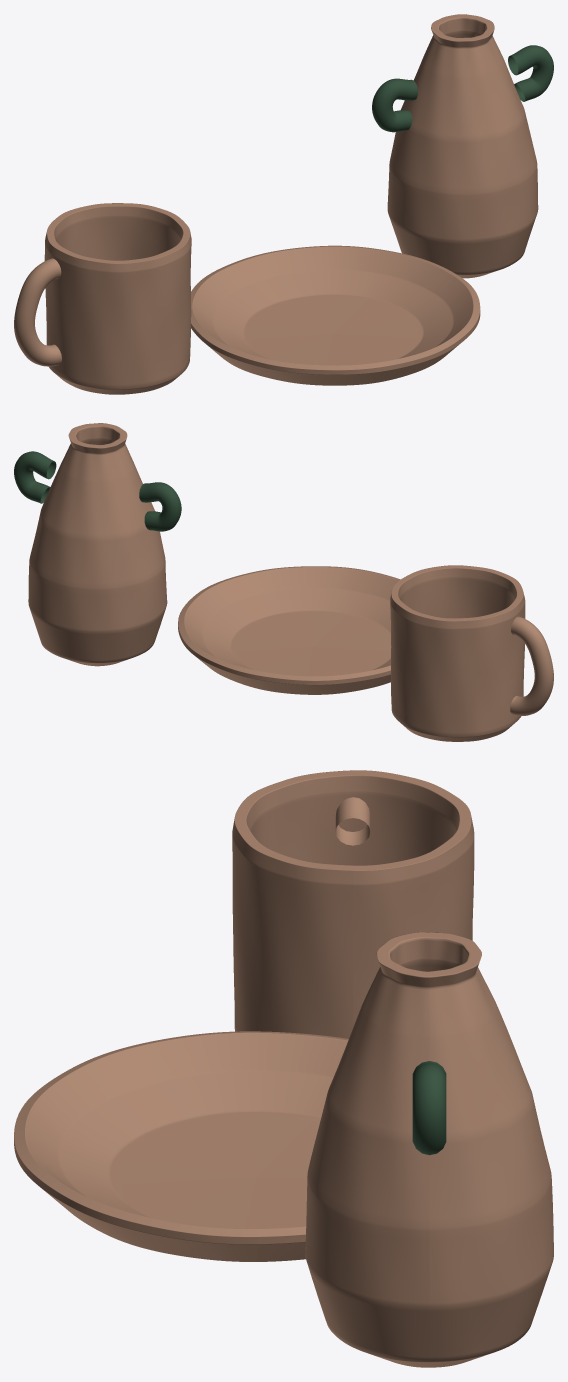
Rendered from ceramic_set.glb.
The picture shows the model from 3 angles, top to bottom: view 1: azimuth 30°, elevation 25°; view 2: azimuth 150°, elevation 25°; view 3: azimuth 270°, elevation 25°; orthographic projection. The views are drawn at different scales.
Visible parts, largest first — view 1: mesh_clay_bowl, mesh_clay_vase, mesh_clay_cup, mesh_clay_cup_handle, mesh_painted_vase_ear_-1, mesh_painted; view 2: mesh_clay_vase, mesh_clay_bowl, mesh_clay_cup, mesh_clay_cup_handle, mesh_painted_vase_ear_-1, mesh_painted; view 3: mesh_clay_vase, mesh_clay_bowl, mesh_clay_cup, mesh_painted, mesh_clay_cup_handle.
Boxes of the visible parts, left/top/right/bottom form: mesh_clay_bowl: left=191, top=245, right=480, bottom=385; mesh_clay_vase: left=387, top=14, right=538, bottom=278; mesh_clay_cup: left=44, top=203, right=191, bottom=394; mesh_clay_cup_handle: left=14, top=258, right=61, bottom=366; mesh_painted_vase_ear_-1: left=372, top=78, right=417, bottom=132; mesh_painted: left=508, top=45, right=553, bottom=101; mesh_clay_vase: left=28, top=423, right=167, bottom=666; mesh_clay_bowl: left=178, top=566, right=400, bottom=694; mesh_clay_cup: left=390, top=565, right=525, bottom=741; mesh_clay_cup_handle: left=510, top=616, right=553, bottom=715; mesh_painted_vase_ear_-1: left=139, top=482, right=181, bottom=531; mesh_painted: left=14, top=451, right=56, bottom=503; mesh_clay_vase: left=305, top=932, right=553, bottom=1367; mesh_clay_bowl: left=14, top=1031, right=348, bottom=1261; mesh_clay_cup: left=232, top=770, right=474, bottom=1038; mesh_painted: left=412, top=1061, right=446, bottom=1155; mesh_clay_cup_handle: left=335, top=797, right=370, bottom=845.
Bounding box in the file's own units: 4.47 × 1.8 × 2.26.
